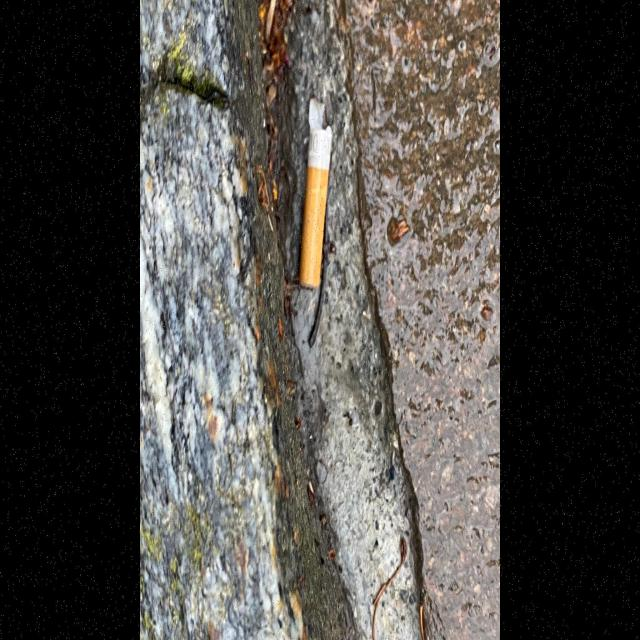other waste: (298, 96, 333, 290)
